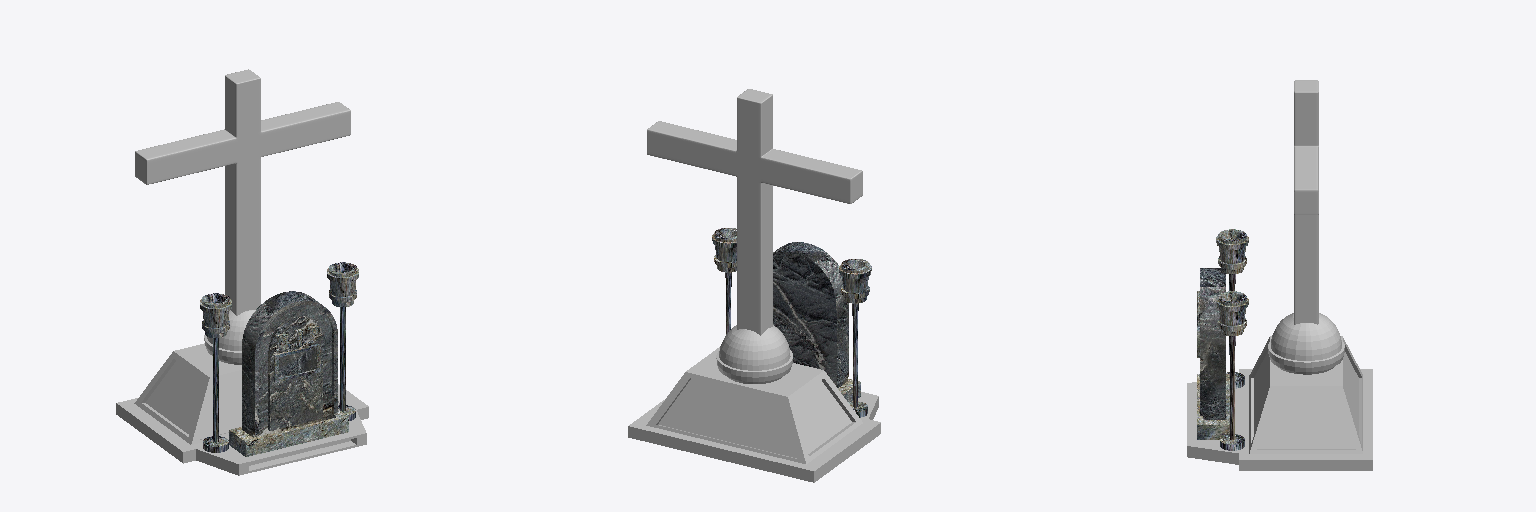
3 renders of one model, left to right at view 1: azimuth 30°, elevation 25°; view 2: azimuth 150°, elevation 25°; view 3: azimuth 270°, elevation 25°, orthographic.
Visible parts, largest first — view 1: ObjTomb.001; view 2: ObjTomb.001; view 3: ObjTomb.001.
Part boxes in pixels (x1,y1,x2,y2): ObjTomb.001: (116, 69, 368, 475); ObjTomb.001: (628, 89, 880, 482); ObjTomb.001: (1187, 80, 1372, 470).
Bounding box in the file's own units: 7.75 × 12.3 × 6.13.
Materials: 3 (2 with a texture image).